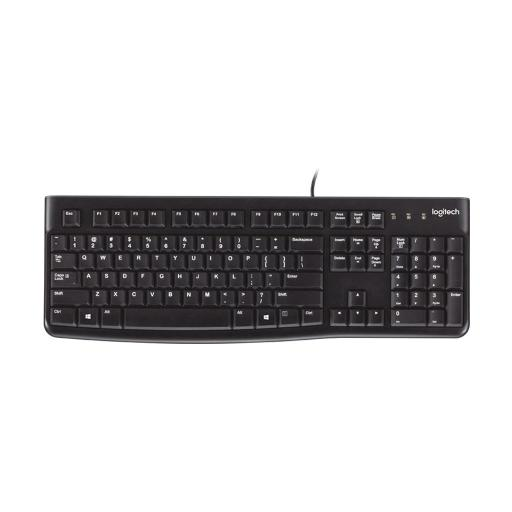KEYBOARD-2: (44, 192, 471, 340)
